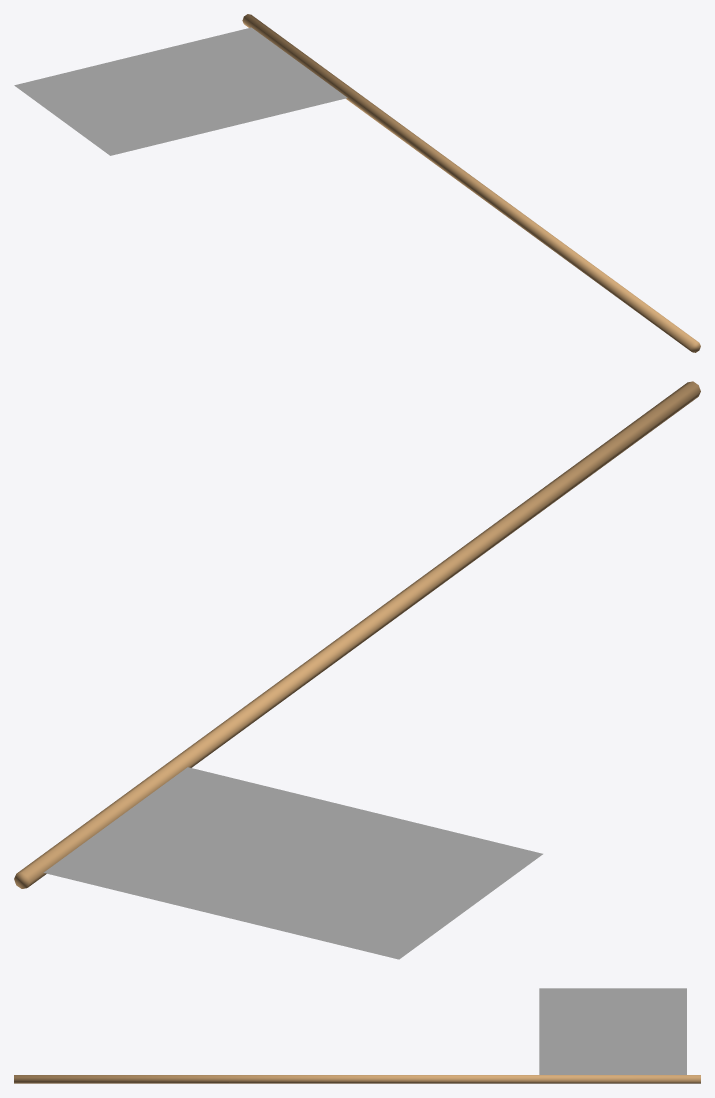
The model's file is Flag.fbx.
The picture shows the model from 3 angles, top to bottom: view 1: azimuth 30°, elevation 25°; view 2: azimuth 150°, elevation 25°; view 3: azimuth 270°, elevation 25°; orthographic projection. The views are drawn at different scales.
Parts seen in each view (by area): view 1: Cylinder; view 2: Cylinder; view 3: Cylinder.
Boxes of the visible parts, box(x1,y1,x2,y2) form: Cylinder: box(14, 14, 700, 352); Cylinder: box(14, 381, 700, 959); Cylinder: box(14, 988, 700, 1083).
Size of the model in its own units: 956 by 40.4 by 2991.
